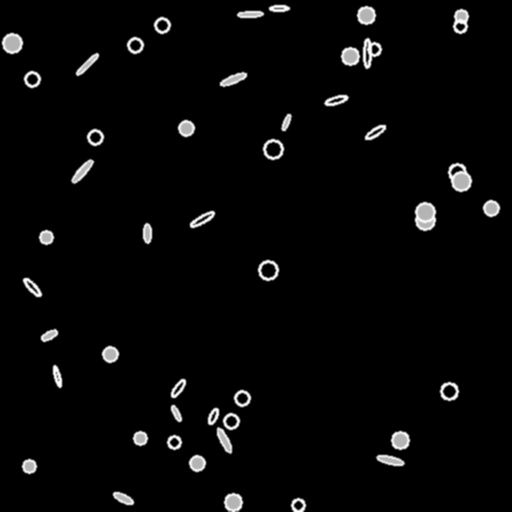pseudomonas: (75, 52, 99, 76), (70, 159, 94, 183), (189, 209, 215, 229), (215, 426, 233, 454), (220, 71, 246, 87), (22, 277, 42, 297), (364, 123, 386, 141), (169, 378, 187, 398), (112, 490, 134, 506), (376, 454, 404, 466), (325, 94, 347, 106), (41, 328, 57, 342), (207, 407, 219, 425), (52, 366, 62, 386), (170, 405, 182, 421), (364, 39, 370, 67), (281, 114, 291, 130), (237, 11, 263, 17), (144, 223, 150, 243), (269, 5, 289, 11)
synechocystis: (416, 211, 434, 229), (3, 34, 21, 52), (264, 140, 282, 158), (452, 172, 470, 190), (259, 261, 277, 279), (416, 203, 434, 221), (449, 164, 465, 180), (441, 383, 457, 399), (342, 48, 358, 64), (225, 494, 241, 510), (392, 432, 408, 448), (358, 7, 374, 23), (155, 18, 169, 32), (235, 391, 249, 405), (25, 72, 39, 86), (179, 121, 193, 135), (484, 201, 498, 215), (88, 130, 102, 144), (103, 347, 117, 361), (128, 38, 142, 52), (190, 456, 204, 470), (224, 414, 238, 428), (455, 10, 467, 22), (454, 20, 466, 32), (292, 499, 304, 511), (134, 432, 146, 444), (23, 460, 35, 472), (368, 43, 380, 55), (168, 436, 180, 448), (40, 231, 52, 243)
